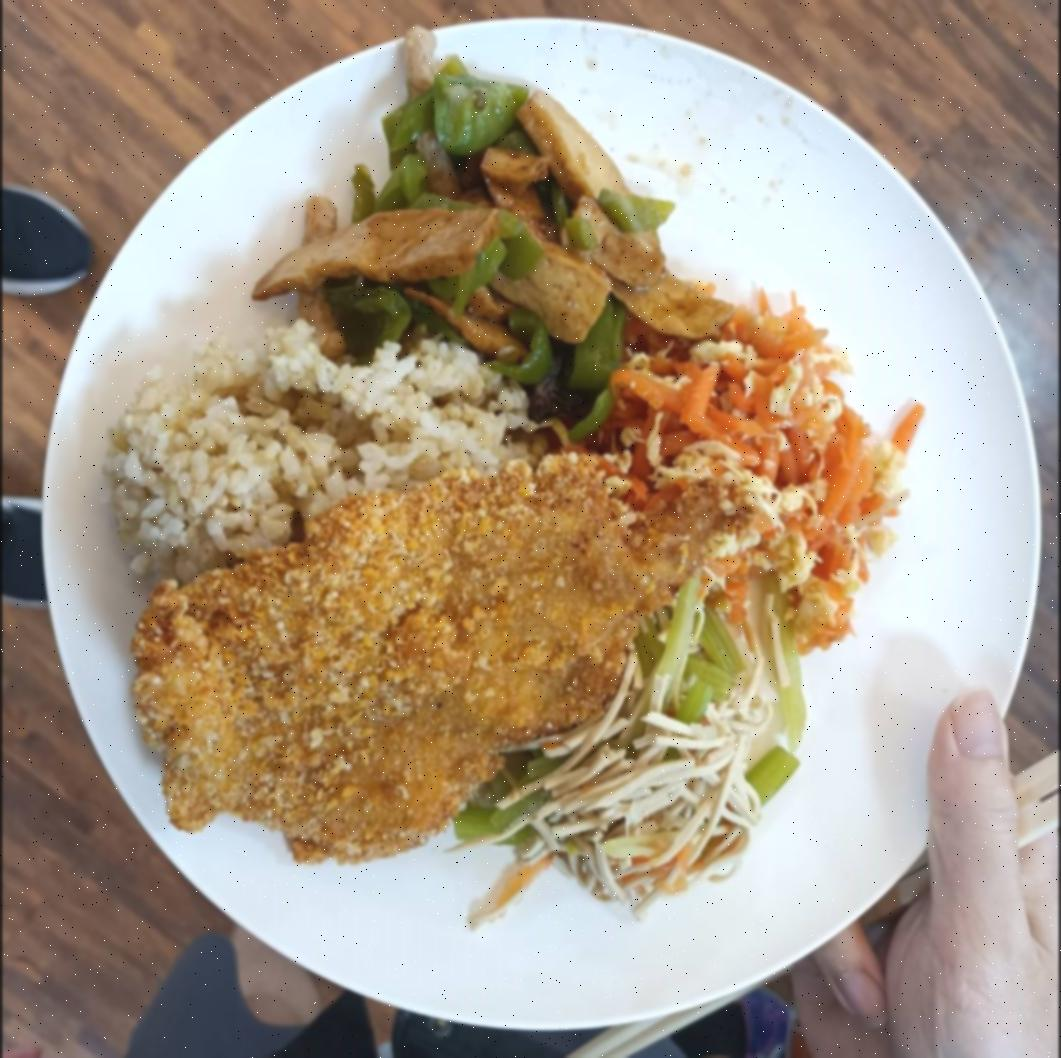brown rice: (111, 329, 524, 560)
chicken steak: (139, 454, 669, 874)
plate: (27, 13, 1046, 1041)
side dish: (251, 56, 718, 404), (456, 619, 802, 932), (620, 284, 900, 646)
